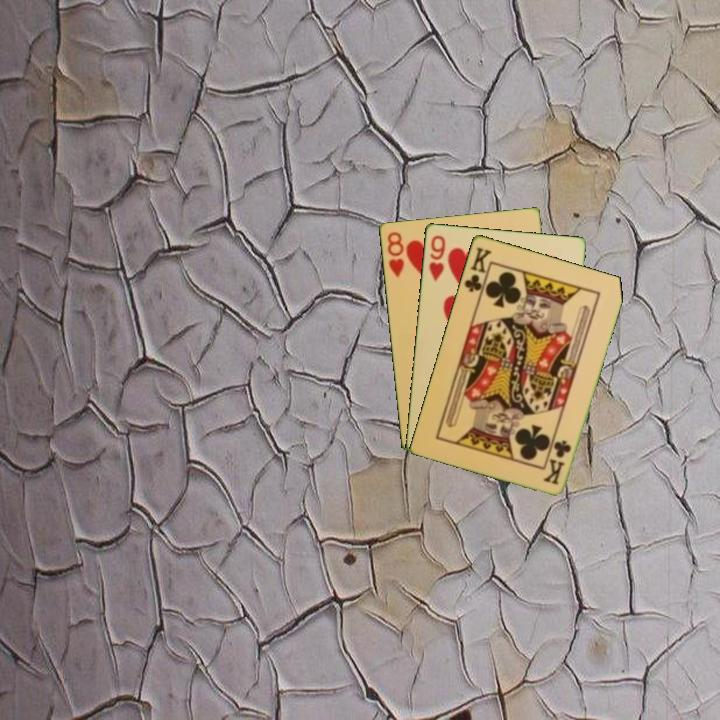8h: (383, 228, 407, 280)
9h: (425, 231, 448, 283)
Kc: (460, 243, 494, 299), (541, 436, 574, 487)
